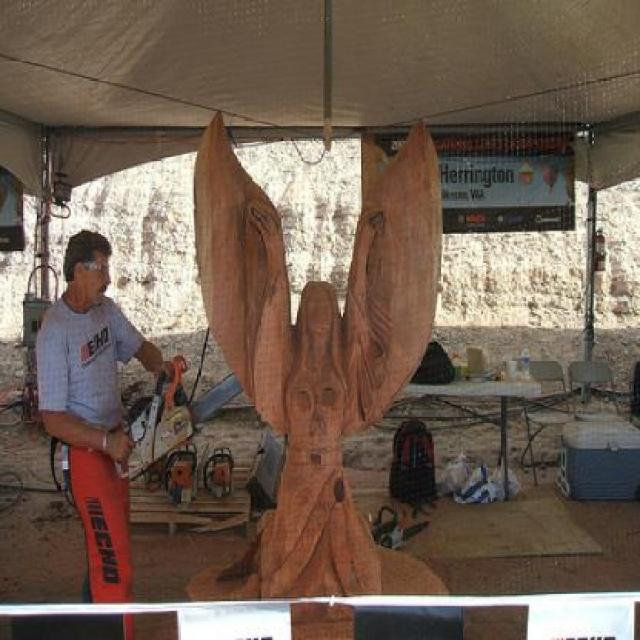Chainsaw: (102, 360, 236, 486)
